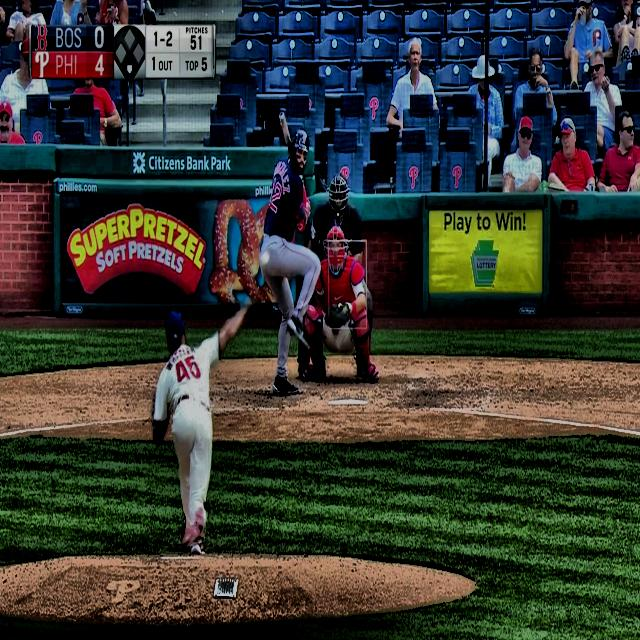baseball: (261, 252, 269, 266)
